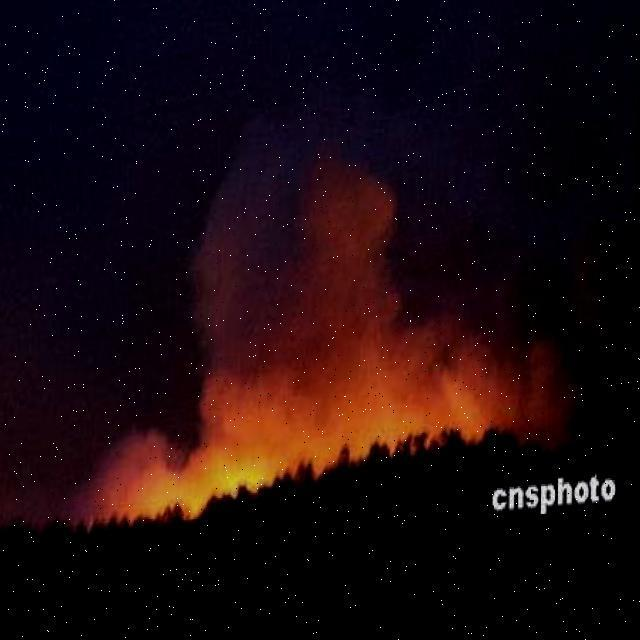Fire: (99, 357, 544, 530)
